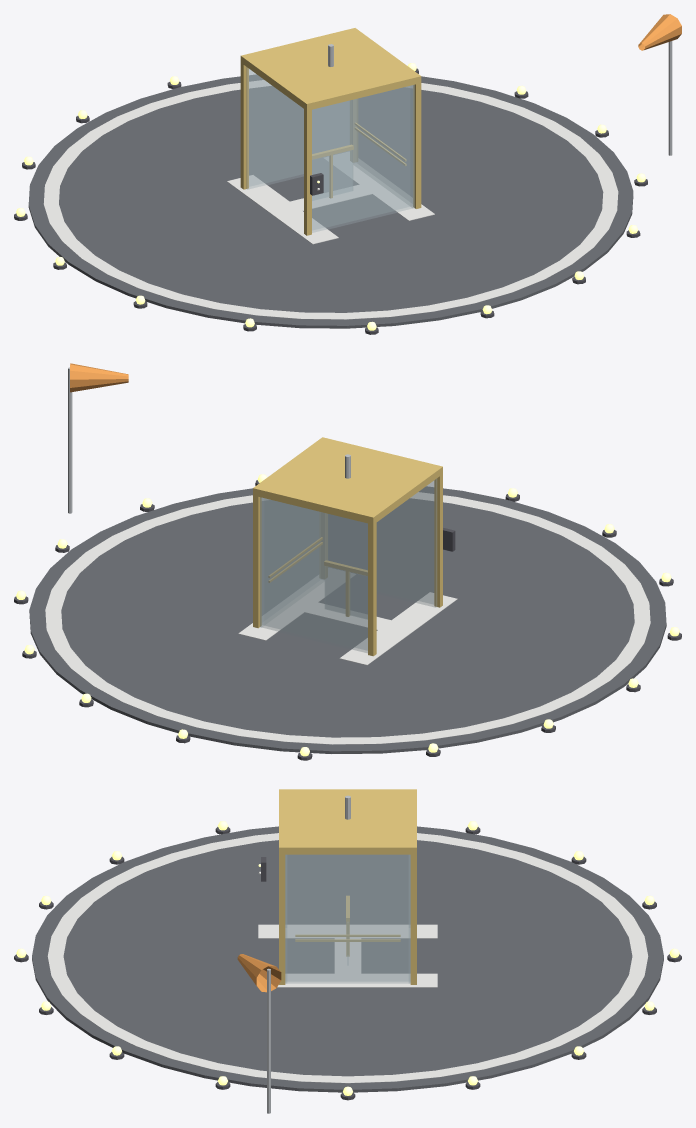
File: tower_top.glb
3 renders of one model, top to bottom at view 1: azimuth 30°, elevation 25°; view 2: azimuth 150°, elevation 25°; view 3: azimuth 270°, elevation 25°, orthographic. The views are drawn at different scales.
Parts seen in each view (by area): view 1: dt_helipad_mesh, dt_lift_mesh, dt_rail_mesh; view 2: dt_helipad_mesh, dt_lift_mesh, dt_rail_mesh; view 3: dt_helipad_mesh, dt_lift_mesh.
Boxes of the visible parts, <box> form: dt_helipad_mesh: <box>14,14,681,334</box>; dt_lift_mesh: <box>240,28,421,235</box>; dt_rail_mesh: <box>312,145,353,200</box>; dt_helipad_mesh: <box>14,363,681,760</box>; dt_lift_mesh: <box>253,437,455,656</box>; dt_rail_mesh: <box>324,560,367,619</box>; dt_helipad_mesh: <box>14,821,681,1113</box>; dt_lift_mesh: <box>258,789,416,984</box>.
Bounding box in the file's own units: 13.37 × 3.4 × 12.68.
